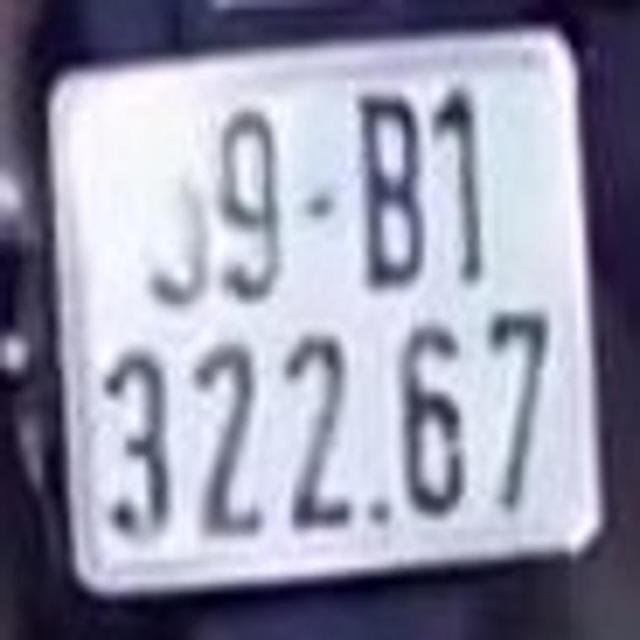1: (433, 84, 492, 285)
2: (190, 337, 264, 538), (282, 330, 354, 531)
3: (100, 347, 174, 542)
6: (397, 317, 468, 517)
7: (484, 304, 553, 512)
9: (216, 103, 283, 304)
B: (353, 89, 428, 292)
